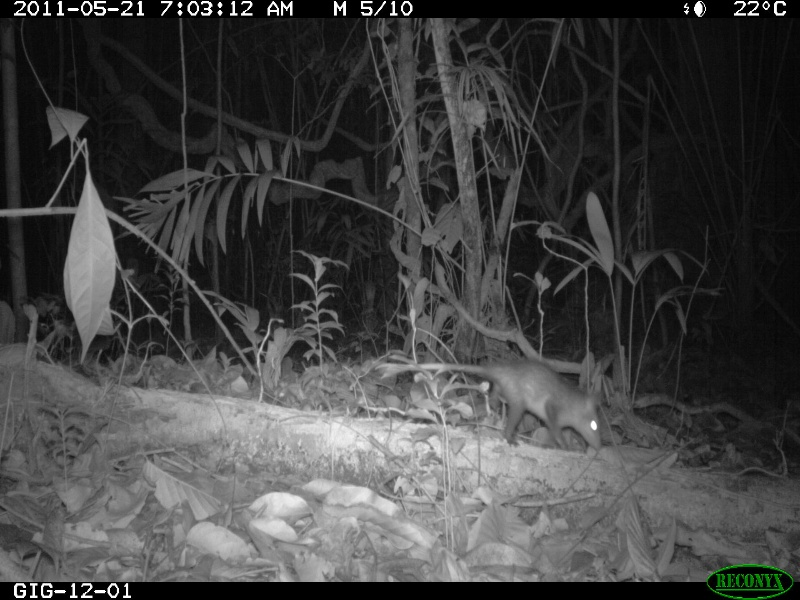opossum: (371, 353, 607, 452)
